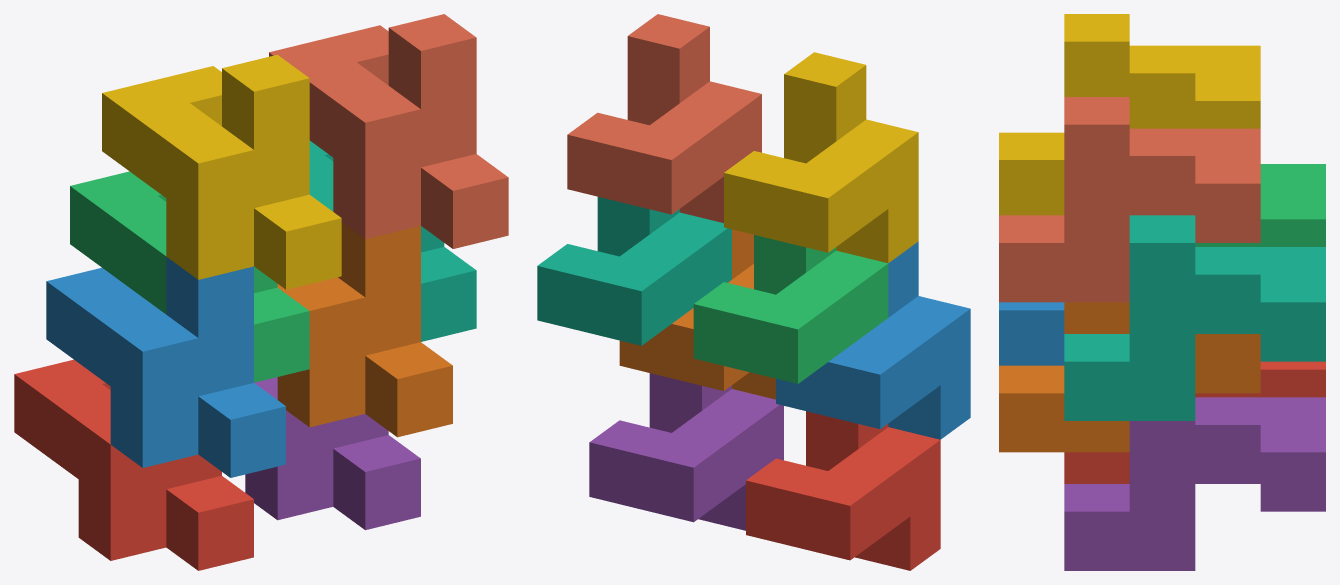
The model's file is tiling.obj.
3 renders of one model, left to right at view 1: azimuth 30°, elevation 25°; view 2: azimuth 150°, elevation 25°; view 3: azimuth 270°, elevation 25°, orthographic. The views are drawn at different scales.
Visible parts, largest first — view 1: copy_1_domain_4, copy_1_domain_8, copy_1_domain_2, copy_1_domain_1, copy_1_domain_6, copy_1_domain_3, copy_1_domain_5, copy_1_domain_7; view 2: copy_1_domain_4, copy_1_domain_8, copy_1_domain_1, copy_1_domain_5, copy_1_domain_3, copy_1_domain_7, copy_1_domain_2, copy_1_domain_6; view 3: copy_1_domain_8, copy_1_domain_7, copy_1_domain_5, copy_1_domain_4, copy_1_domain_6, copy_1_domain_3, copy_1_domain_1, copy_1_domain_2.
Boxes of the visible parts, x1,y1,x2,y2 form: copy_1_domain_4: [102, 54, 341, 289]; copy_1_domain_8: [269, 14, 508, 248]; copy_1_domain_2: [46, 257, 285, 477]; copy_1_domain_1: [14, 359, 253, 570]; copy_1_domain_6: [277, 222, 452, 437]; copy_1_domain_3: [70, 171, 309, 382]; copy_1_domain_5: [245, 377, 420, 530]; copy_1_domain_7: [309, 140, 476, 341]; copy_1_domain_4: [724, 52, 918, 263]; copy_1_domain_8: [567, 14, 761, 222]; copy_1_domain_1: [746, 411, 940, 570]; copy_1_domain_5: [589, 373, 783, 530]; copy_1_domain_3: [693, 235, 888, 383]; copy_1_domain_7: [537, 197, 731, 345]; copy_1_domain_2: [776, 241, 970, 439]; copy_1_domain_6: [619, 229, 775, 399]; copy_1_domain_8: [999, 97, 1260, 302]; copy_1_domain_7: [1064, 215, 1325, 420]; copy_1_domain_5: [1064, 397, 1325, 570]; copy_1_domain_4: [999, 14, 1260, 215]; copy_1_domain_6: [999, 302, 1260, 452]; copy_1_domain_3: [1195, 164, 1325, 246]; copy_1_domain_1: [1064, 361, 1325, 483]; copy_1_domain_2: [999, 302, 1064, 365].
Size of the model in its own units: 6 by 8 by 5.
